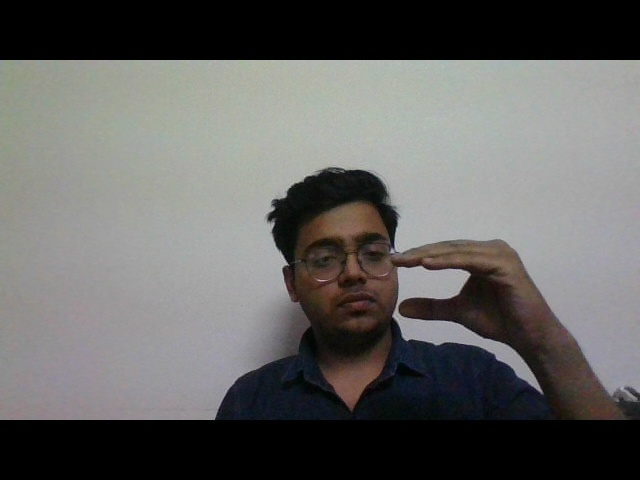no: (368, 196, 602, 388)
